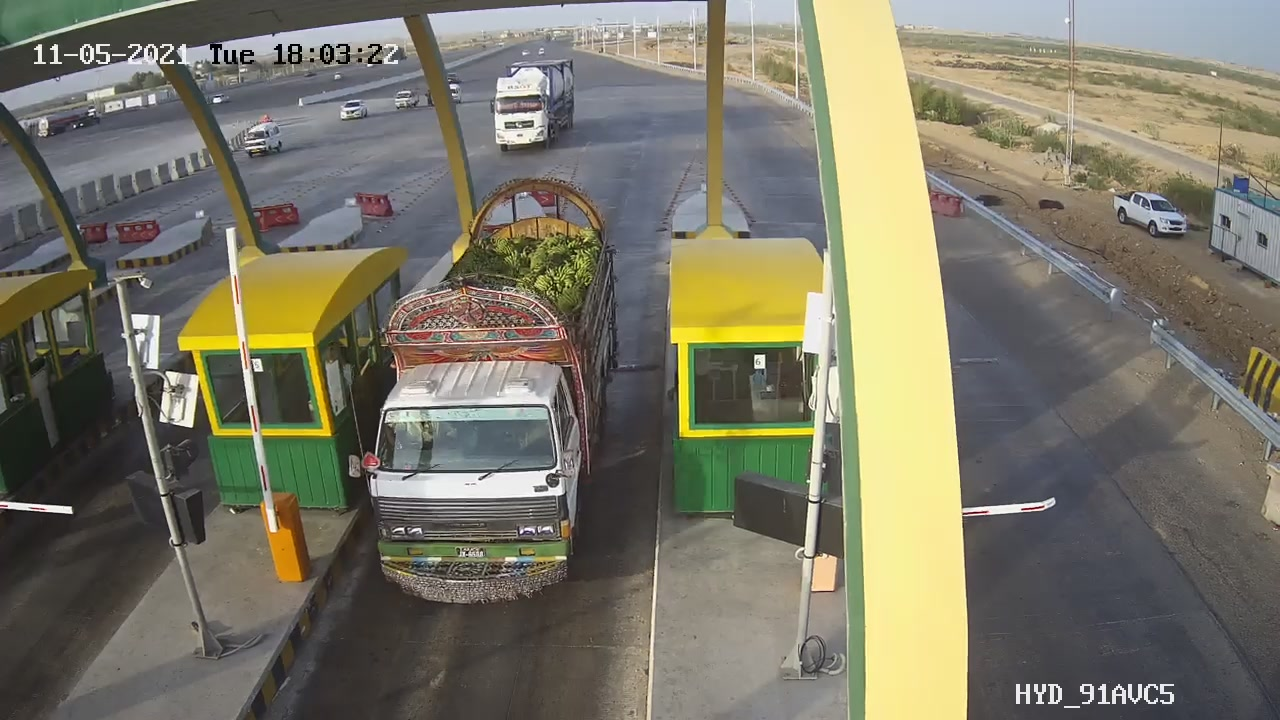F5: (331, 166, 650, 627)
